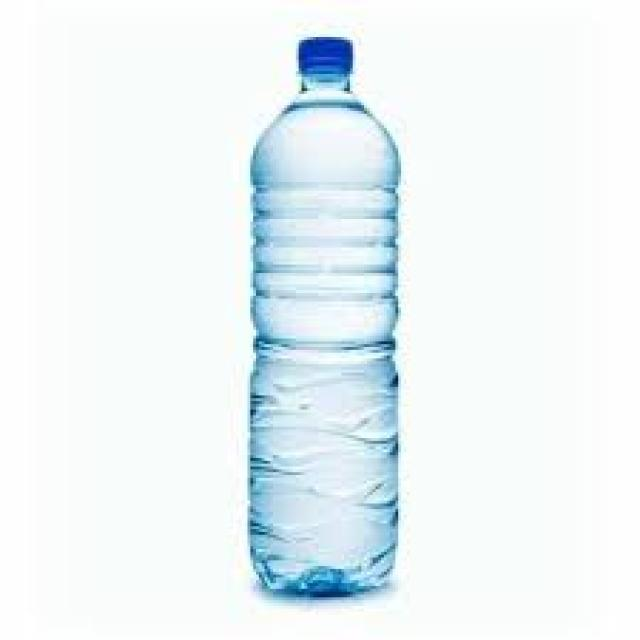plastic cup: (249, 36, 400, 594)
